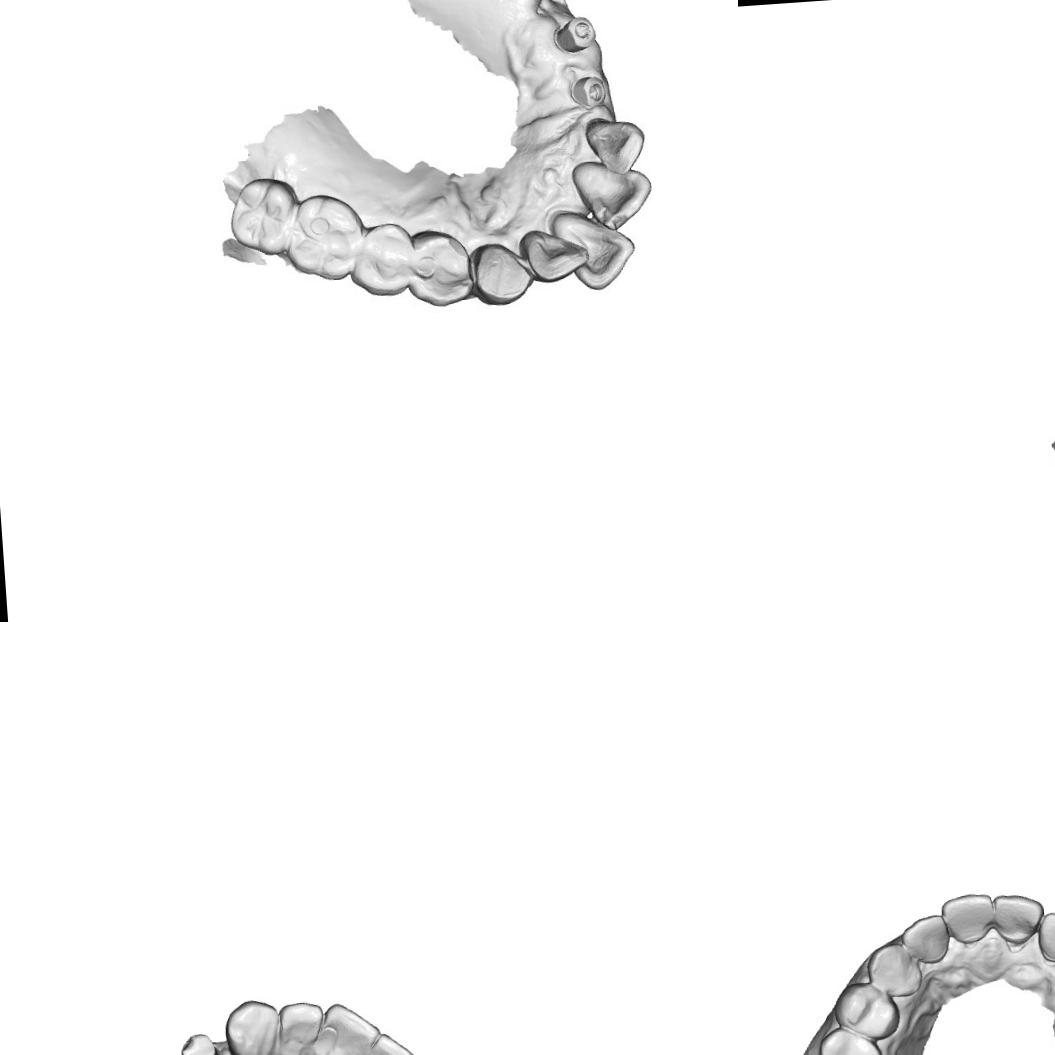abutment: (175, 1030, 225, 1055)
canine: (469, 239, 529, 312), (863, 940, 924, 1000), (221, 996, 282, 1055)
implant: (555, 10, 598, 60), (570, 72, 610, 111)
incisor: (554, 211, 638, 293), (570, 156, 652, 236), (579, 114, 647, 178), (313, 997, 385, 1055), (524, 229, 586, 284), (989, 889, 1047, 947), (938, 890, 996, 948), (896, 912, 952, 966), (273, 997, 325, 1055), (358, 1028, 426, 1055), (1034, 908, 1055, 964)
molar: (281, 193, 367, 281), (226, 175, 301, 258)
premolar: (405, 228, 473, 310), (350, 220, 416, 298), (830, 978, 903, 1043), (815, 1023, 885, 1055)
